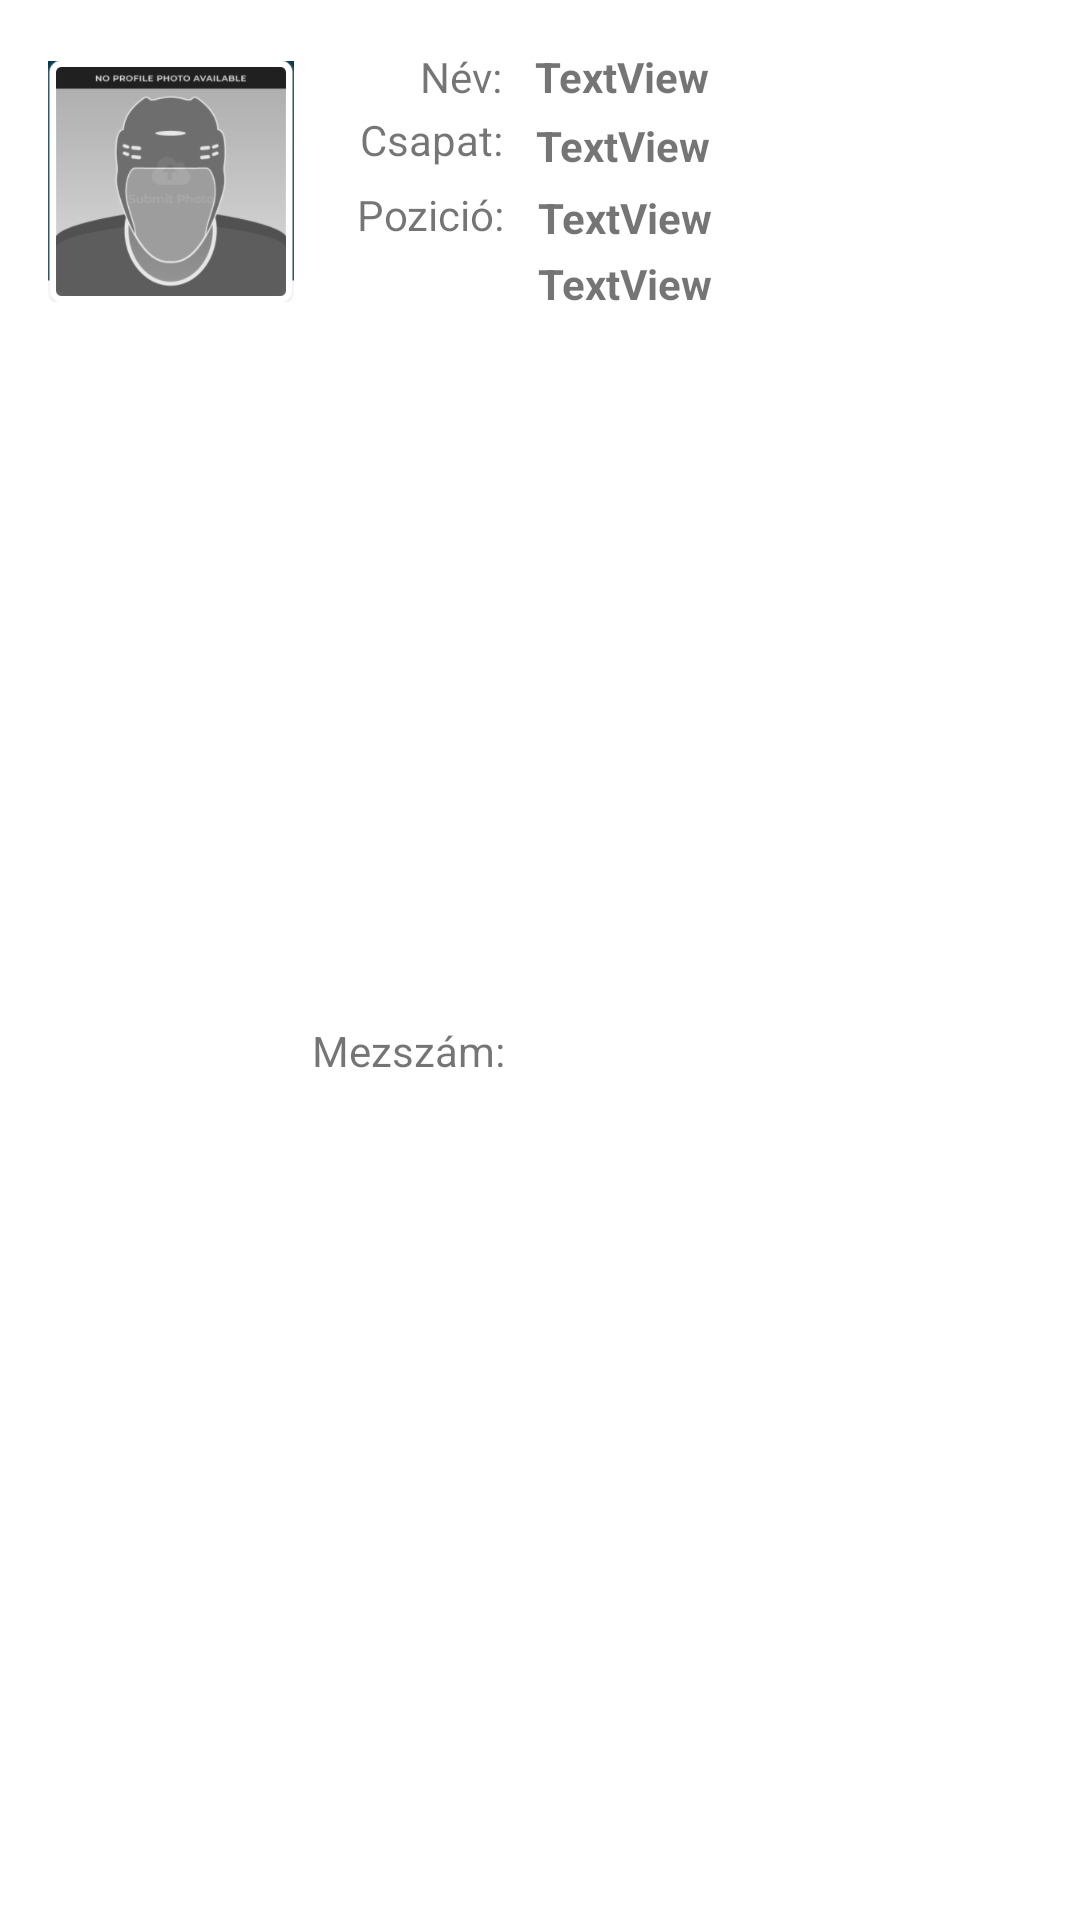

Icons on this 1080 × 1920 Android screen, each with the point to tap as [x,y]:
player: [171,178]
